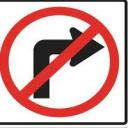NoVirarDireita: (0, 3, 122, 118)
